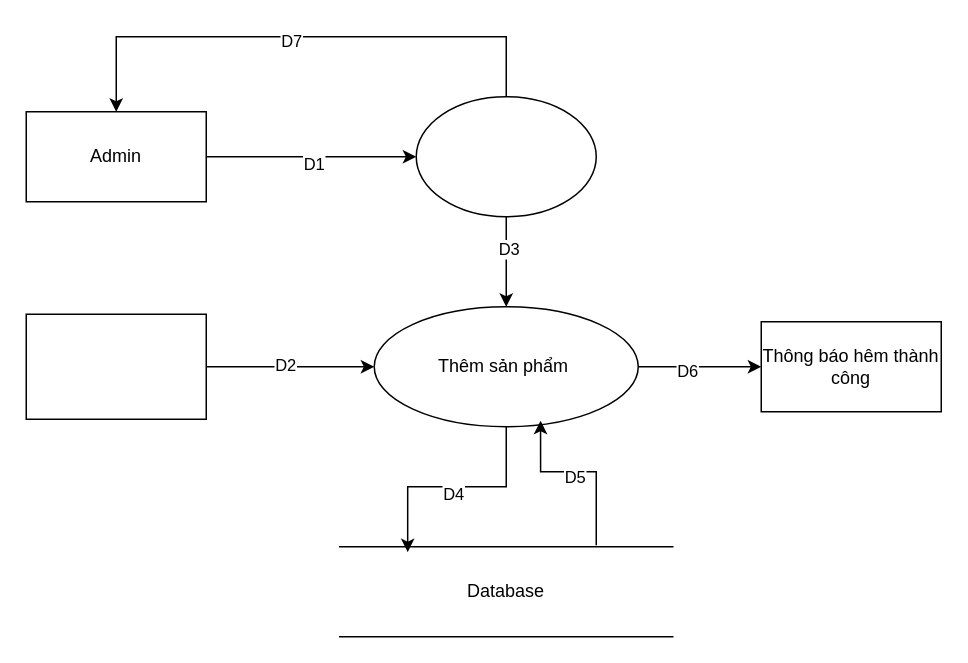
This 968x663 diagram has some shape labels left out. Here are the shapes that lost their labels. From the top down, the box of each, then its label:
(415, 95, 596, 217): Xử lí hợp lệ
(25, 313, 206, 419): Thiết bị nhập
